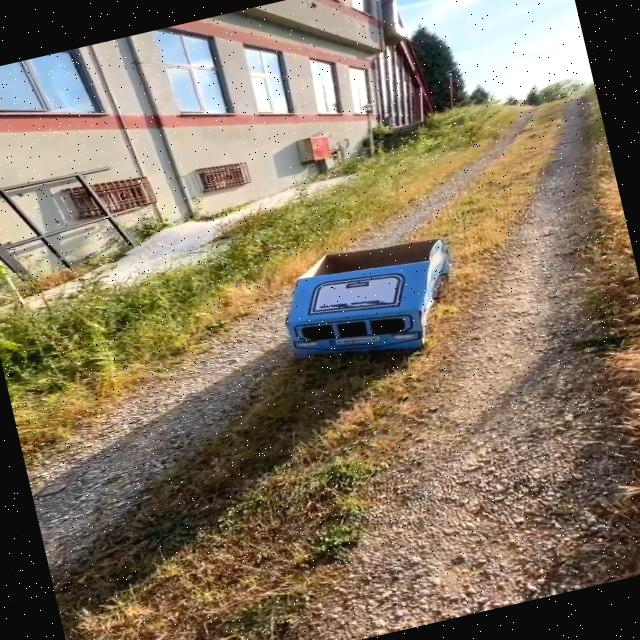blue_car: (190, 195, 489, 417)
